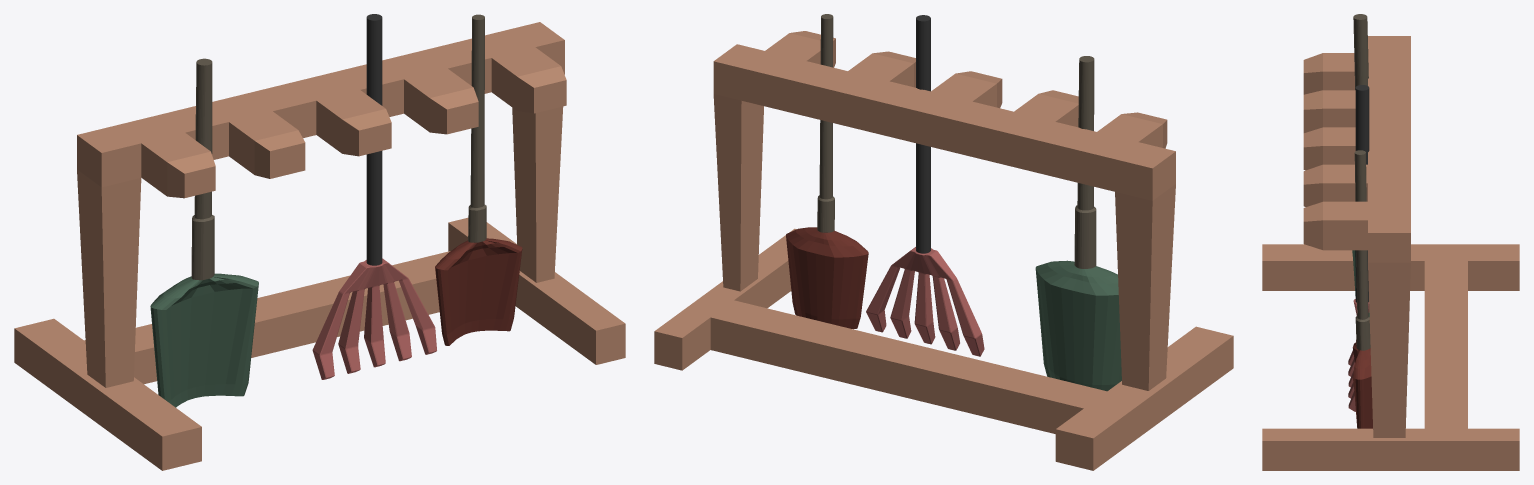
The model's file is tool_stand_garden.fbx.
The picture shows the model from 3 angles, left to right: view 1: azimuth 30°, elevation 25°; view 2: azimuth 150°, elevation 25°; view 3: azimuth 270°, elevation 25°; orthographic projection. The views are drawn at different scales.
Visible parts, largest first — view 1: tool_stand_garden, Cube.025, Cube.027, Cube.053, Cube.023, Cube.026; view 2: tool_stand_garden, Cube.025, Cube.053, Cube.027, Cube.023, Cube.026; view 3: tool_stand_garden, Cube.023, Cube.053, Cube.026, Cube.027.
Part boxes in pixels (left/top/right/bottom): tool_stand_garden: left=14, top=22, right=625, bottom=470; Cube.025: left=150, top=273, right=258, bottom=407; Cube.027: left=312, top=258, right=436, bottom=379; Cube.053: left=435, top=238, right=522, bottom=345; Cube.023: left=191, top=14, right=486, bottom=280; Cube.026: left=366, top=14, right=382, bottom=265; tool_stand_garden: left=654, top=31, right=1233, bottom=470; Cube.025: left=1035, top=260, right=1121, bottom=391; Cube.053: left=786, top=227, right=868, bottom=329; Cube.027: left=866, top=247, right=984, bottom=356; Cube.023: left=817, top=14, right=1096, bottom=268; Cube.026: left=916, top=15, right=930, bottom=253; tool_stand_garden: left=1262, top=36, right=1519, bottom=470; Cube.023: left=1353, top=14, right=1370, bottom=350; Cube.053: left=1352, top=342, right=1372, bottom=428; Cube.026: left=1355, top=85, right=1369, bottom=302; Cube.027: left=1348, top=299, right=1369, bottom=411.
Size of the model in its own units: 130 by 92.94 by 71.94.
